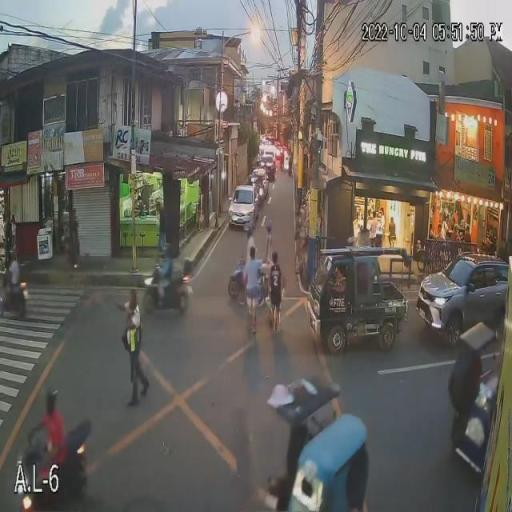helmet: (40, 387, 58, 414), (243, 222, 254, 236), (164, 243, 173, 258), (7, 249, 15, 261)
motorcycle: (16, 434, 87, 505), (142, 267, 192, 314), (0, 281, 29, 317), (225, 259, 245, 295)
rider: (33, 416, 67, 490), (158, 259, 173, 304), (3, 260, 17, 302), (242, 236, 255, 263)
